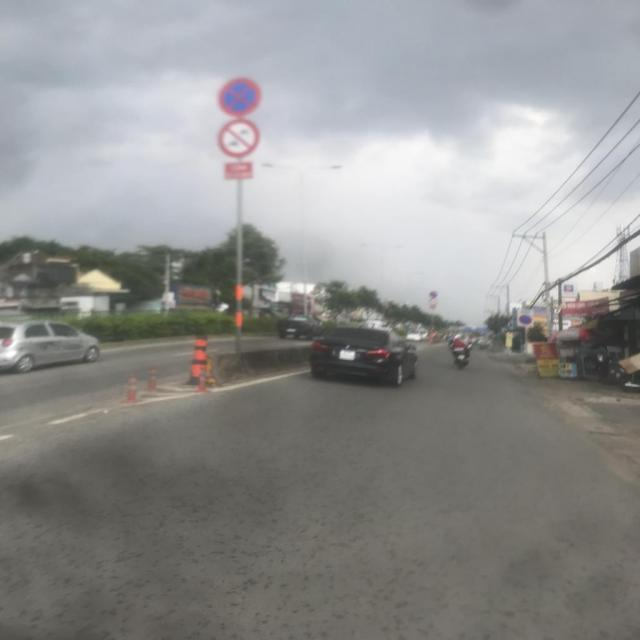cam_dung_xe_va_do_xe: (219, 80, 260, 116), (518, 315, 532, 324), (429, 291, 438, 298)
cam_xe_2_banh_va_xe_3_banh_co_dong_co: (218, 118, 260, 158), (429, 298, 438, 306)
